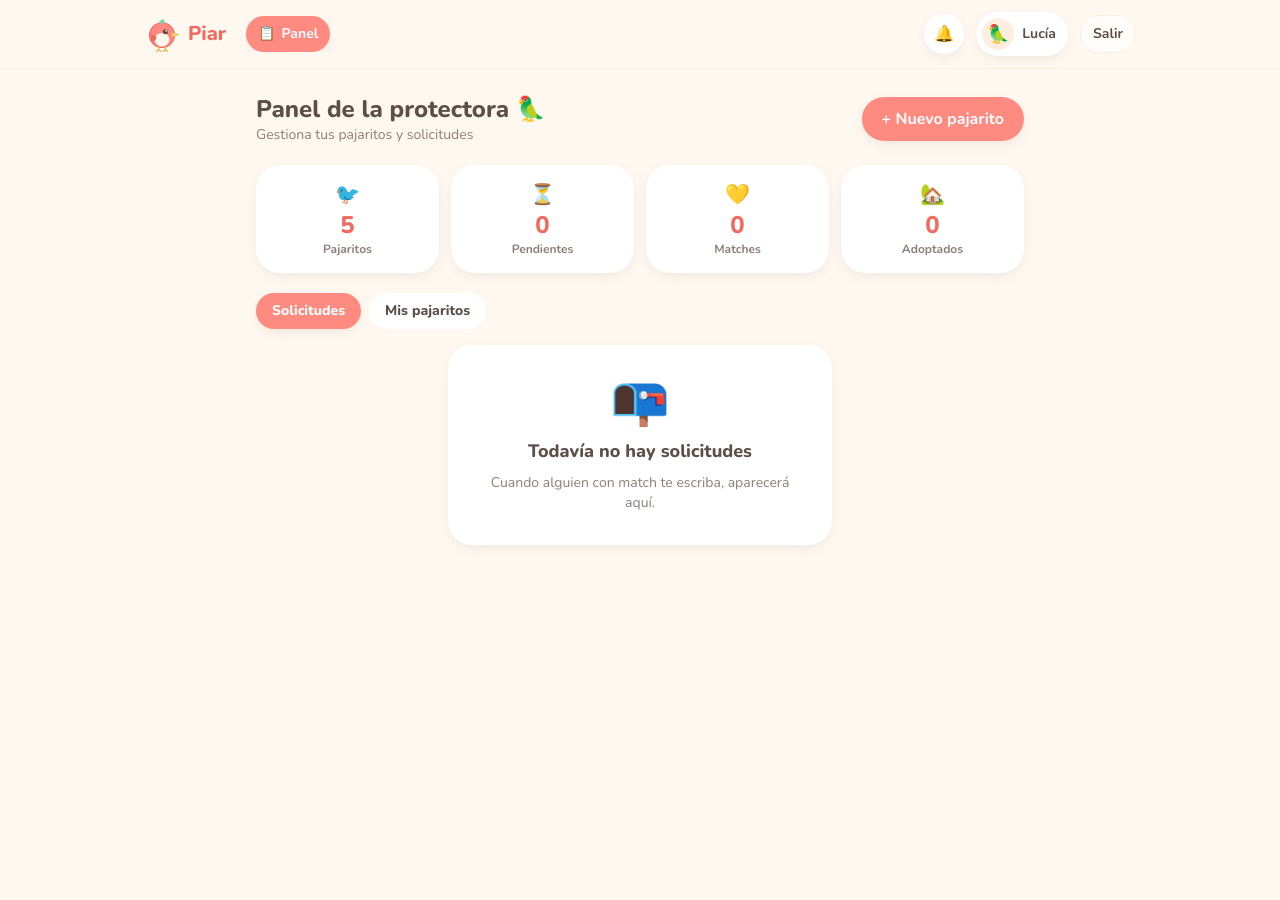
it: panel de la protectora › lista los pajaritos de la protectora con su estado
The width and height of the screenshot is (1280, 900).
Click the button "Mis pajaritos". click: (428, 311)
box: [369,293,486,329]
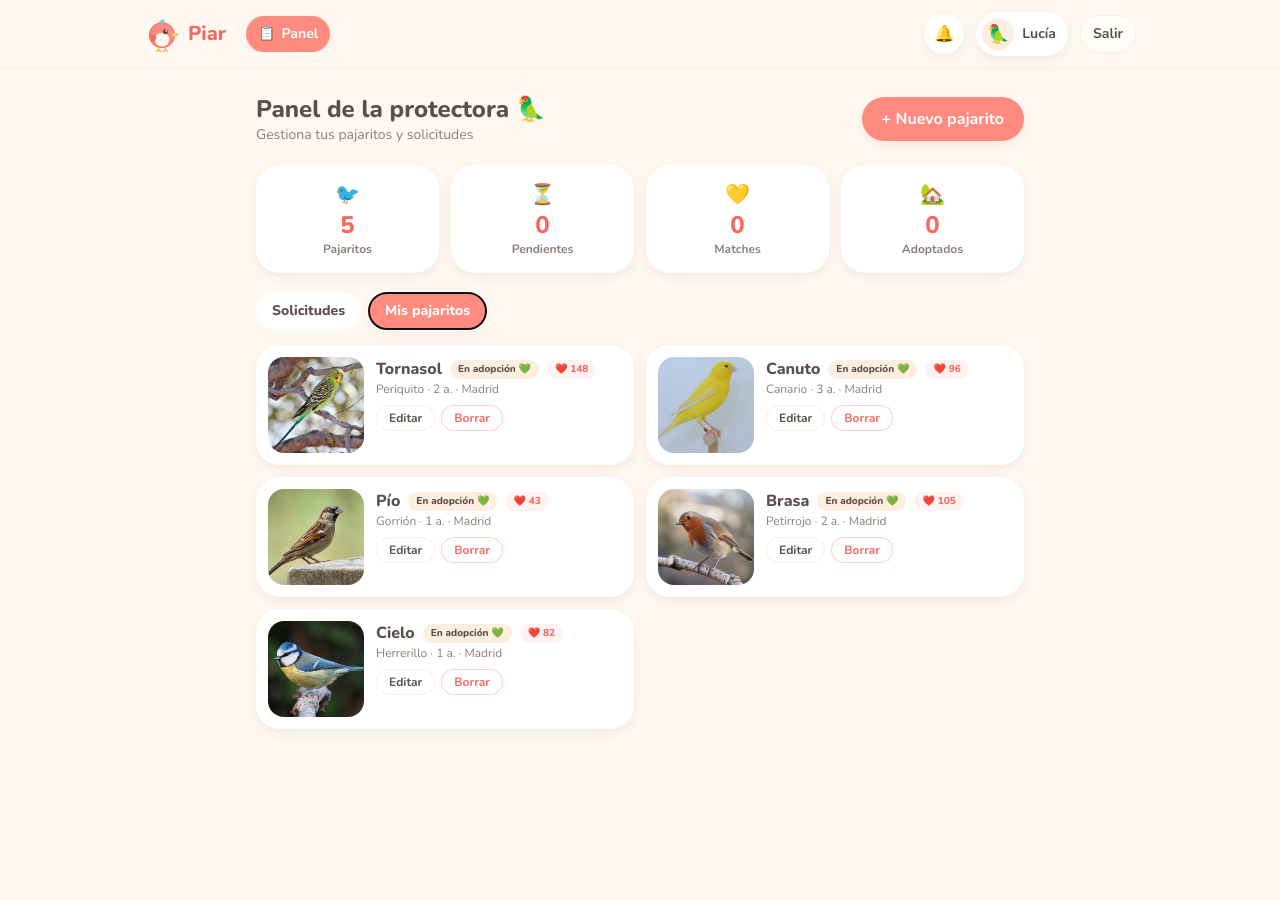
Now the heading "Tornasol" is shown, box [376,357,442,381]
Now the heading "Canuto" is shown, box [766,357,820,381]
Now the text "En adopción 💚" is shown 5 times, box [450,360,539,378]; [828,360,917,378]; [408,492,497,510]; [817,492,906,510]; [423,624,512,642]
